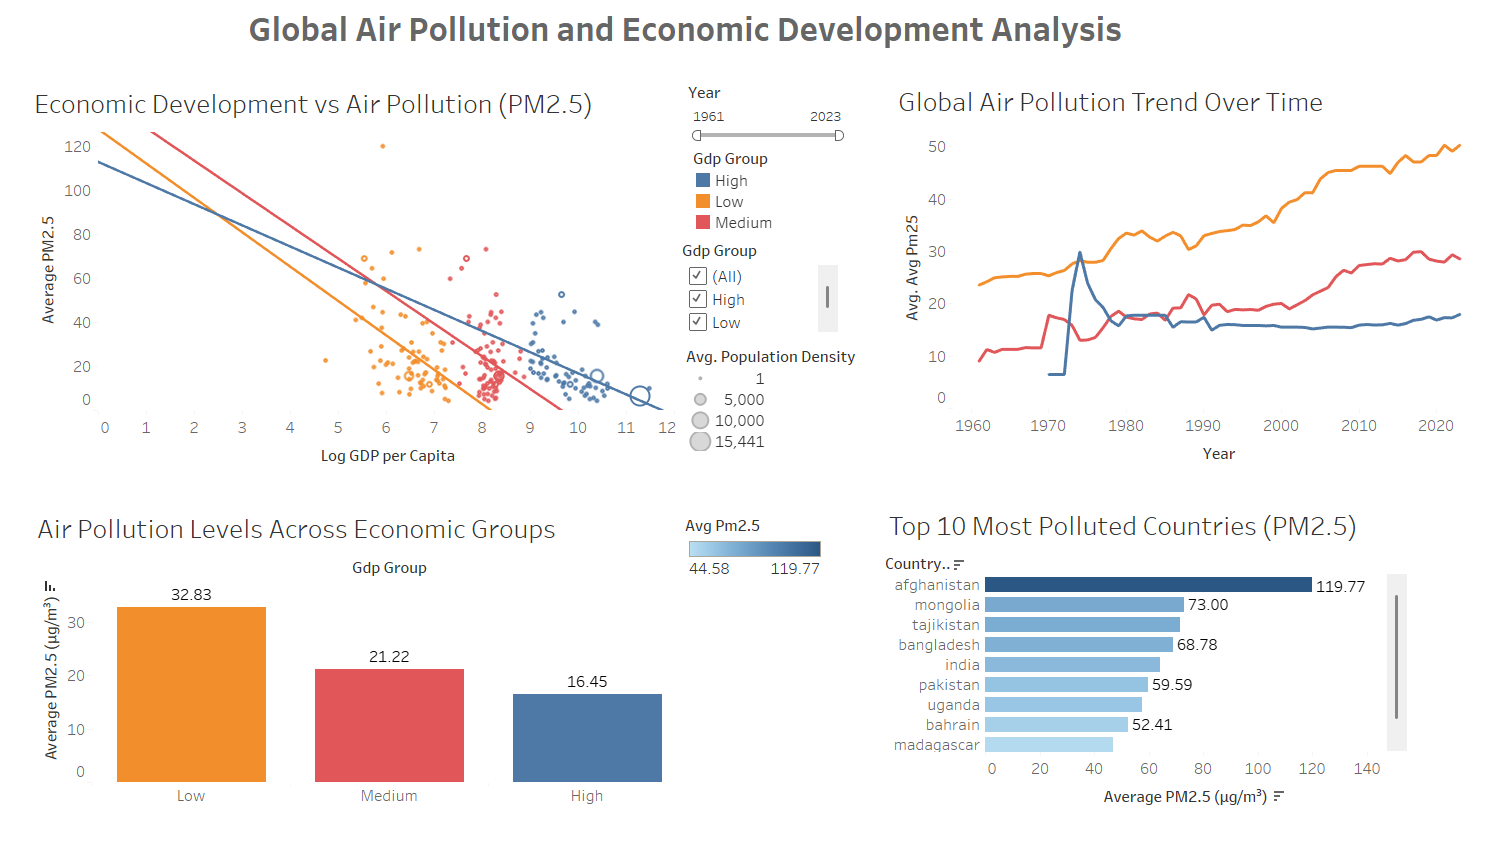

This screenshot's page, from the dashboard's own definition file:
{"tool":"tableau","page":{"name":"Global Air Pollution and Economic Development Analysis","canvas":[1500,900],"ordinal":0},"visuals":[{"type":"text","box":[247,9,908,43]},{"type":"worksheet","title":"Global Pollution Trends by Economic Group","mark":"Line","rows":["avg_pm25"],"cols":["year"],"box":[896,83,591,391]},{"type":"worksheet","title":"Economic Development vs Air Pollution","mark":"Automatic","rows":["avg_pm25"],"cols":["log_gdp"],"box":[32,85,648,391]},{"type":"filter","title":"Economic Development vs Air Pollution","param":"[federated.1wadrio1bvq8h011hvoen1kd1rb9].[none:year:qk]","box":[690,85,160,65]},{"type":"legend","title":"Economic Development vs Air Pollution","param":"[federated.1wadrio1bvq8h011hvoen1kd1rb9].[none:gdp_group:nk]","box":[695,151,140,85]},{"type":"filter","title":"Economic Development vs Air Pollution","param":"[federated.1wadrio1bvq8h011hvoen1kd1rb9].[none:gdp_group:nk]","box":[684,243,156,92]},{"type":"legend","title":"Economic Development vs Air Pollution","param":"[federated.1wadrio1bvq8h011hvoen1kd1rb9].[avg:population_density:qk]","box":[688,349,180,127]},{"type":"worksheet","title":"Top Polluted Countries","mark":"Bar","rows":["country_name"],"cols":["avg_pm25"],"box":[887,507,522,310]},{"type":"worksheet","title":"Pollution Across GDP Segments","mark":"Bar","rows":["avg_pm25"],"cols":["gdp_group"],"box":[35,510,653,300]},{"type":"legend","title":"Top Polluted Countries","param":"[federated.1wadrio1bvq8h011hvoen1kd1rb9].[avg:avg_pm25:qk]","box":[687,518,140,88]}]}

Visuals, with their boxes on the page's 1500x900 design canvas (x1, y1, x2, y2). These are canvas units, not pixel positions in the 1491x842 screenshot, which may show the page scaled, cropped or inside an application window:
text: box=[247, 9, 1155, 52]
"Global Pollution Trends by Economic Group" worksheet (Line marks): box=[896, 83, 1487, 474]
"Economic Development vs Air Pollution" worksheet: box=[32, 85, 680, 476]
"Economic Development vs Air Pollution" filter: box=[690, 85, 850, 150]
"Economic Development vs Air Pollution" legend: box=[695, 151, 835, 236]
"Economic Development vs Air Pollution" filter: box=[684, 243, 840, 335]
"Economic Development vs Air Pollution" legend: box=[688, 349, 868, 476]
"Top Polluted Countries" worksheet (Bar marks): box=[887, 507, 1409, 817]
"Pollution Across GDP Segments" worksheet (Bar marks): box=[35, 510, 688, 810]
"Top Polluted Countries" legend: box=[687, 518, 827, 606]
